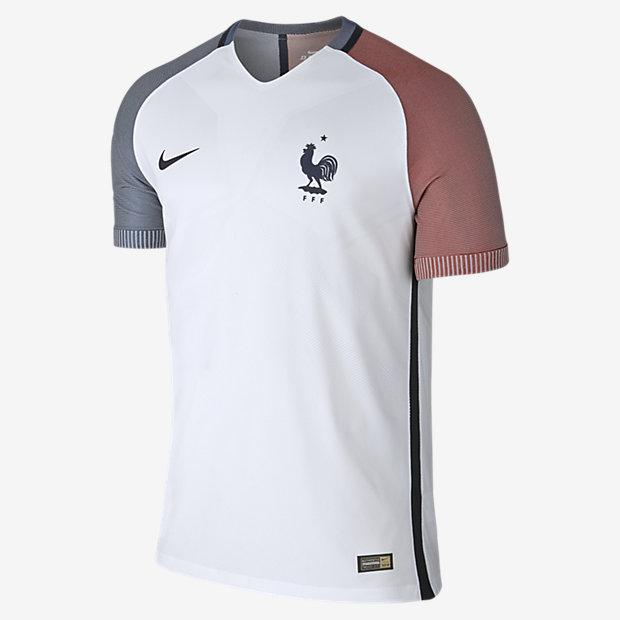teeshirt: (71, 19, 556, 620)
